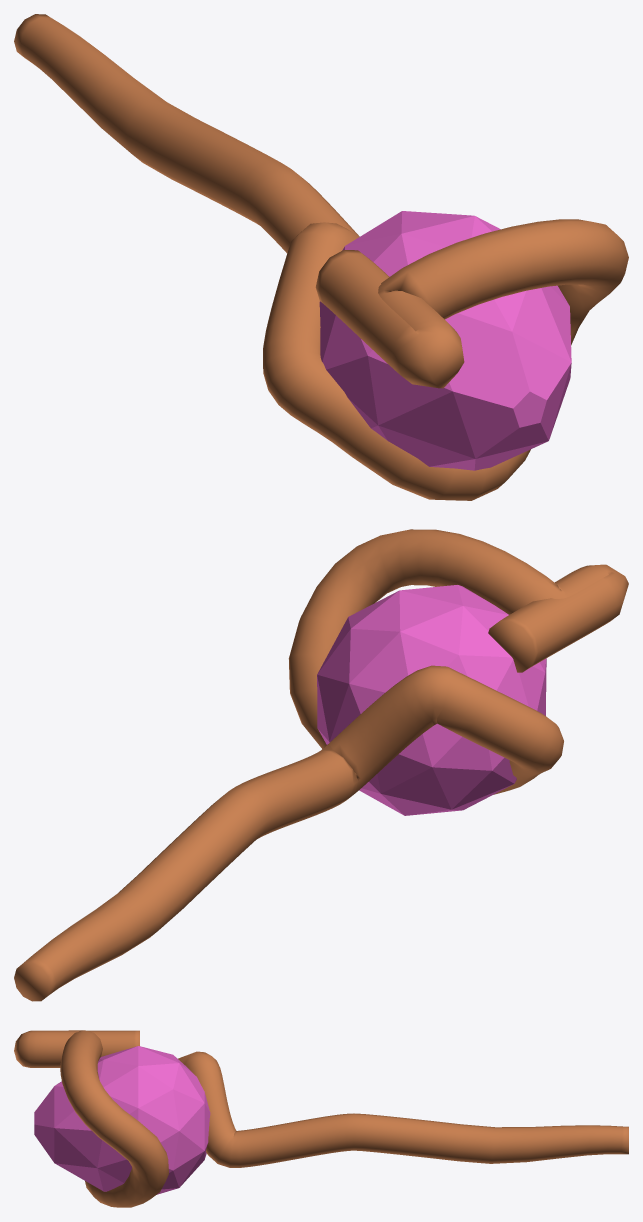
The model's file is magic_wand.glb.
3 renders of one model, top to bottom at view 1: azimuth 30°, elevation 25°; view 2: azimuth 150°, elevation 25°; view 3: azimuth 270°, elevation 25°, orthographic. The views are drawn at different scales.
Visible parts, largest first — view 1: magic_wand; view 2: magic_wand; view 3: magic_wand.
Boxes of the visible parts, <box> form: magic_wand: <box>14,14,628,500</box>; magic_wand: <box>14,529,628,1001</box>; magic_wand: <box>14,1030,628,1207</box>.
Size of the model in its own units: 0.5596 by 0.4661 by 1.65.
